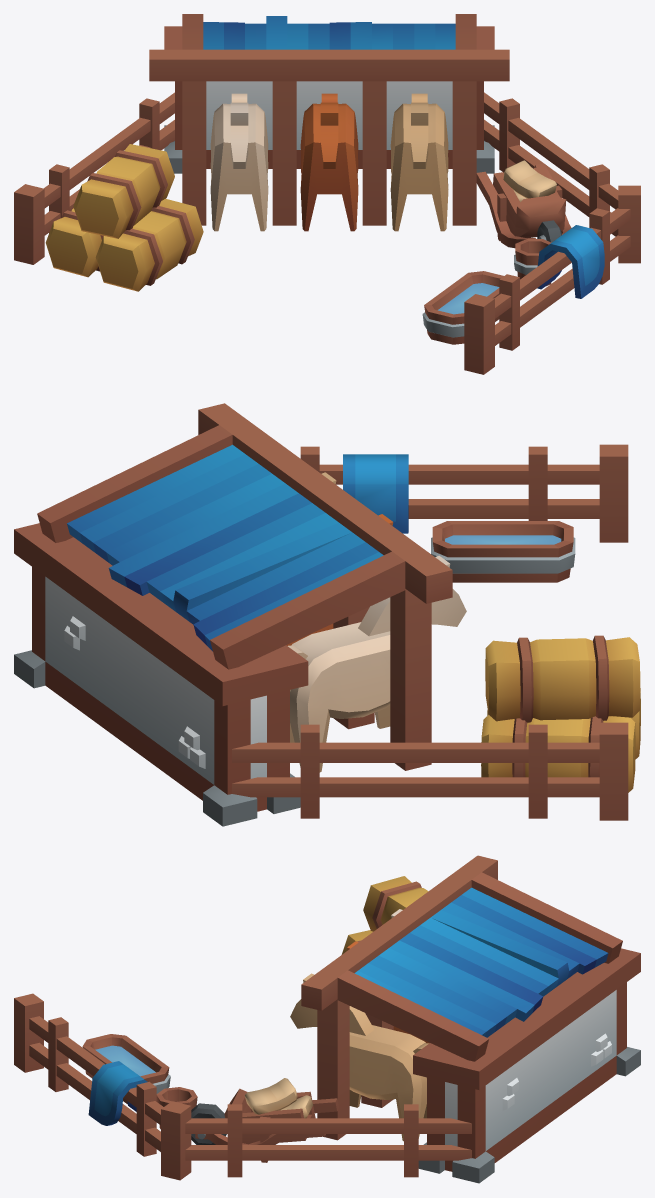
The model's file is stables.glb.
The picture shows the model from 3 angles, top to bottom: view 1: azimuth 30°, elevation 25°; view 2: azimuth 150°, elevation 25°; view 3: azimuth 270°, elevation 25°; orthographic projection. The views are drawn at different scales.
Parts seen in each view (by area): view 1: building_stables_blue; view 2: building_stables_blue; view 3: building_stables_blue.
Part boxes in pixels (box(x1,y1,x2,y2)): building_stables_blue: box(14, 14, 640, 374); building_stables_blue: box(14, 403, 640, 826); building_stables_blue: box(14, 855, 640, 1183).
Size of the model in its own units: 1.86 by 0.6115 by 2.13.
1 material, 1 textured.
